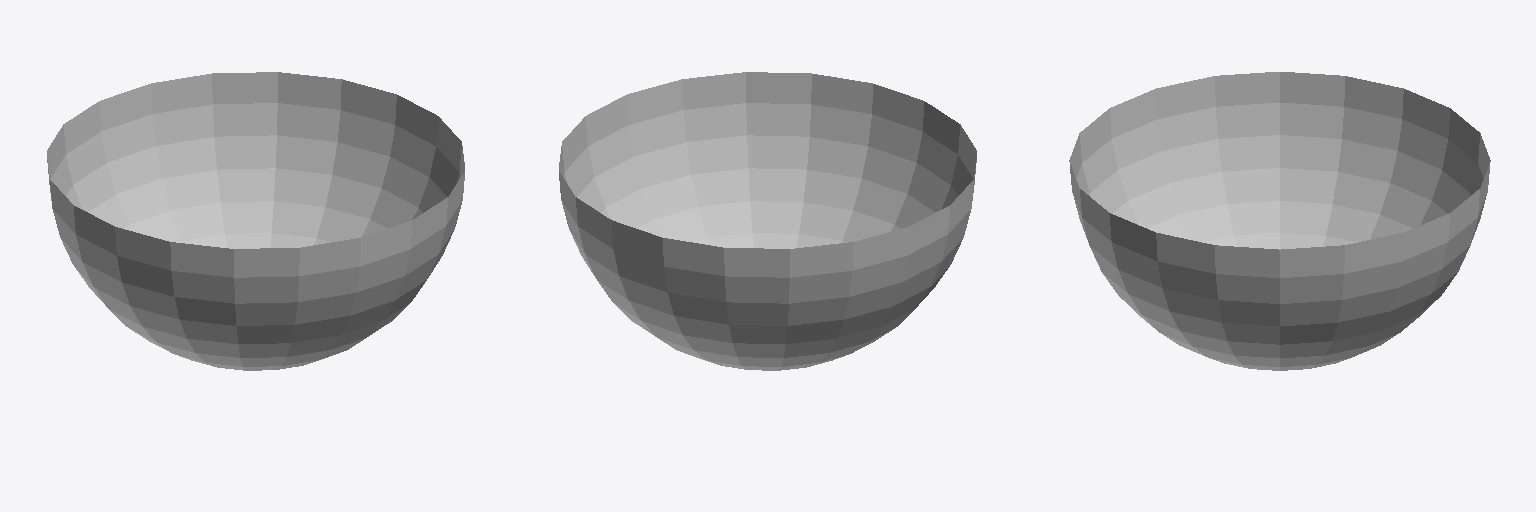
Rendered from Poke_Abajo.obj.
3 renders of one model, left to right at view 1: azimuth 30°, elevation 25°; view 2: azimuth 150°, elevation 25°; view 3: azimuth 270°, elevation 25°, orthographic.
Parts seen in each view (by area): view 1: polySurface1 pSphere1; view 2: polySurface1 pSphere1; view 3: polySurface1 pSphere1.
Boxes of the visible parts, x1,y1,x2,y2 form: polySurface1 pSphere1: [47, 72, 464, 370]; polySurface1 pSphere1: [559, 72, 976, 370]; polySurface1 pSphere1: [1069, 72, 1490, 370].
Bounding box in the file's own units: 2 × 1 × 2.